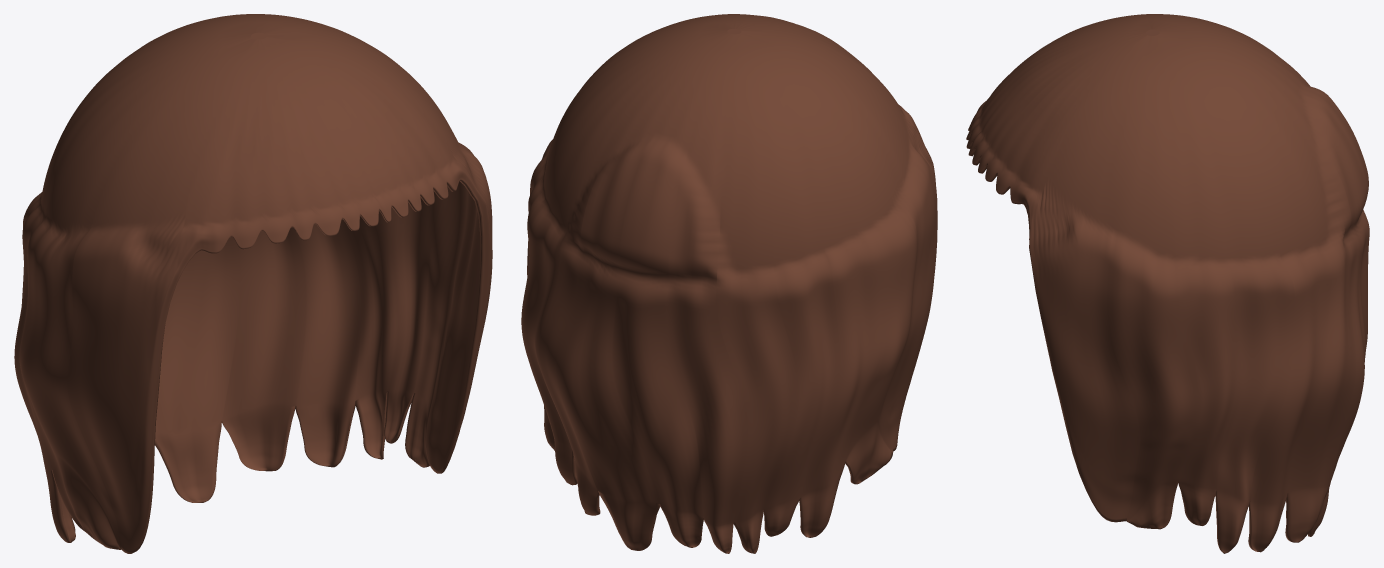
Rendered from long-cap.glb.
3 renders of one model, left to right at view 1: azimuth 30°, elevation 25°; view 2: azimuth 150°, elevation 25°; view 3: azimuth 270°, elevation 25°, orthographic. The views are drawn at different scales.
Parts seen in each view (by area): view 1: Hair / rounded long fringe; view 2: Hair / rounded long fringe; view 3: Hair / rounded long fringe.
Part boxes in pixels (x1,y1,x2,y2): Hair / rounded long fringe: [14, 14, 492, 553]; Hair / rounded long fringe: [521, 14, 937, 553]; Hair / rounded long fringe: [966, 14, 1369, 553].
Bounding box in the file's own units: 0.8534 × 1.04 × 0.7751.
